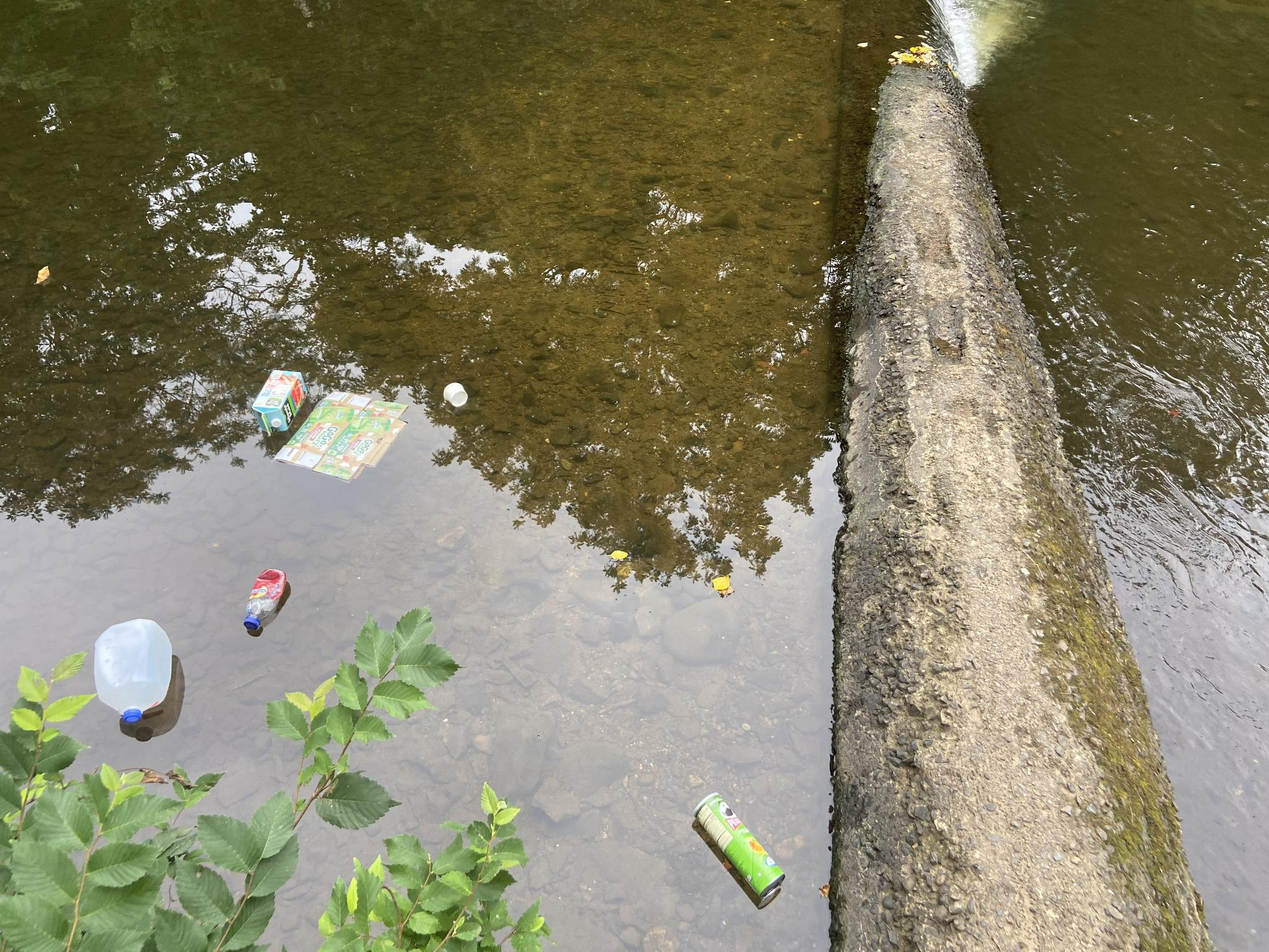cardboard: (270, 384, 417, 487), (245, 365, 305, 443)
metal: (683, 784, 799, 911)
paper: (438, 377, 471, 412)
plastic: (86, 609, 189, 727), (236, 561, 294, 643)
